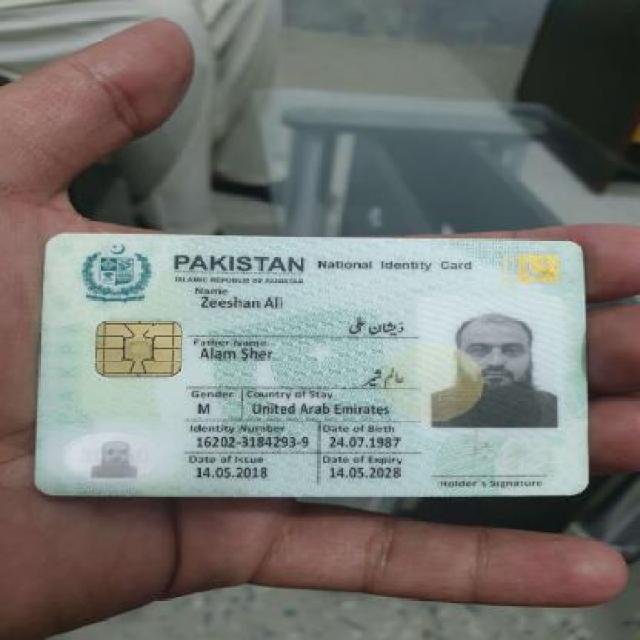Front: (32, 228, 594, 503)
